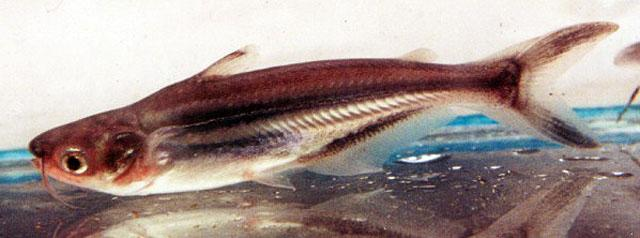Mulut: (26, 130, 66, 178)
Sirip Anal: (312, 96, 468, 184)
Sirip Dada: (144, 117, 220, 170)
Sirip Ekor: (506, 18, 616, 162)
Sirip Perut: (244, 154, 302, 198)
Sirip Punggung: (196, 39, 266, 81)
